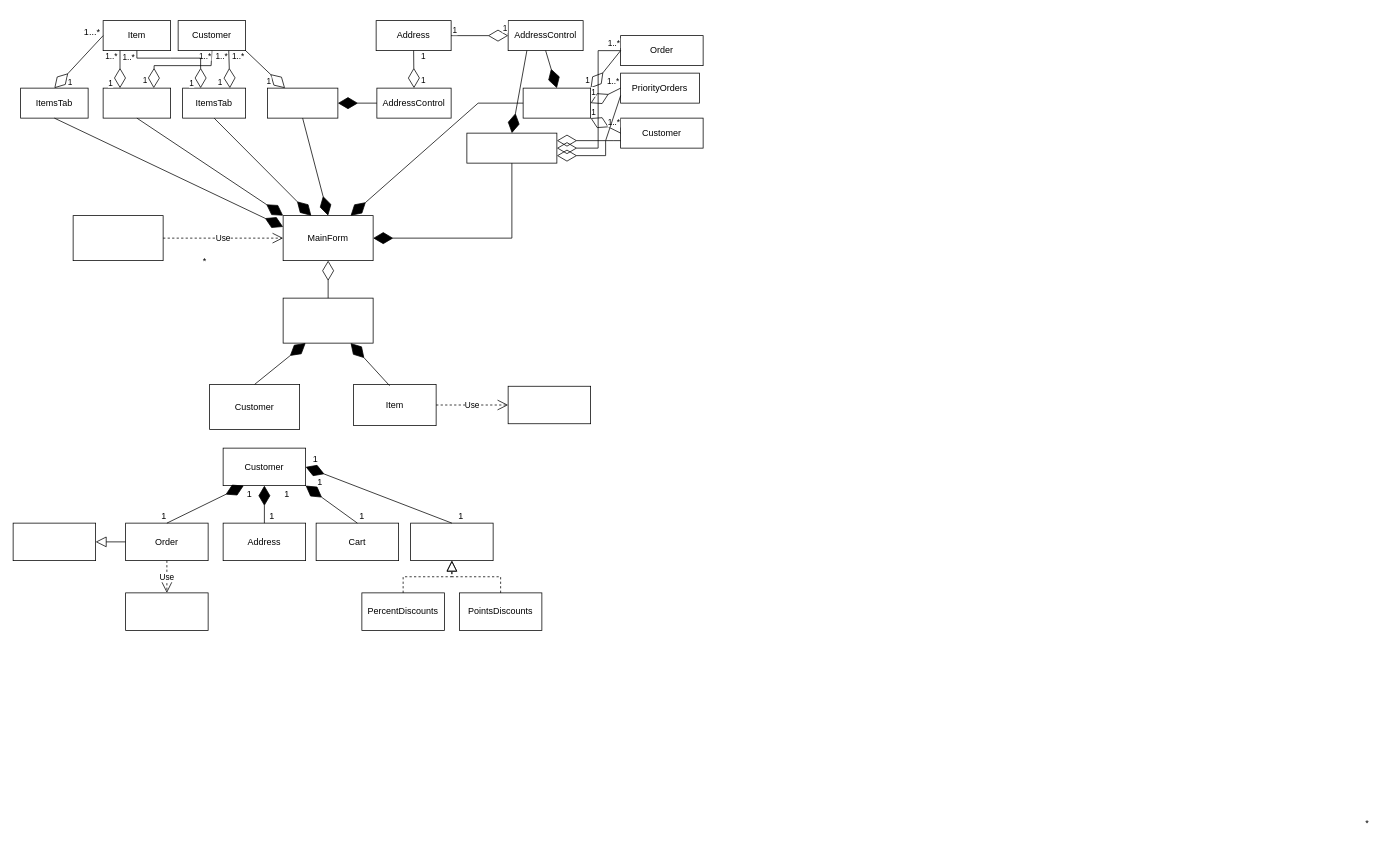
This 1391x848 diagram has some shape labels left out. Here are the shapes that lost their labels. From the top down, the box of each, then its label:
(102, 87, 171, 118): CartsTab
(267, 87, 338, 118): CustomerTab
(522, 87, 591, 118): OrdersTab
(466, 132, 557, 163): PriorityOrderTab
(72, 215, 163, 261): Program
(282, 297, 373, 343): Store
(507, 386, 591, 424): «enumeration» Category
(12, 522, 96, 561): PriorityOrder
(410, 522, 493, 561): «interface» IDiscount
(125, 592, 208, 630): «enumeration» OrderStatus
